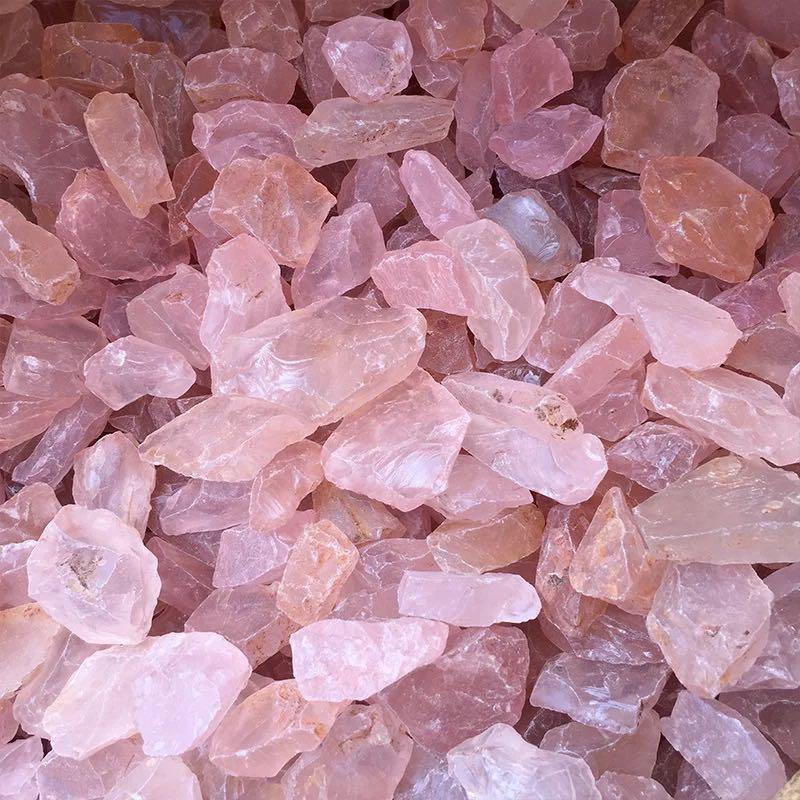Rose_Quartz: (2, 0, 798, 795)
